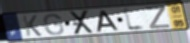A: (96, 10, 121, 33)
G: (43, 13, 66, 36)
K: (21, 15, 44, 37)
L: (122, 6, 148, 33)
X: (69, 9, 96, 36)
Z: (144, 5, 172, 30)
